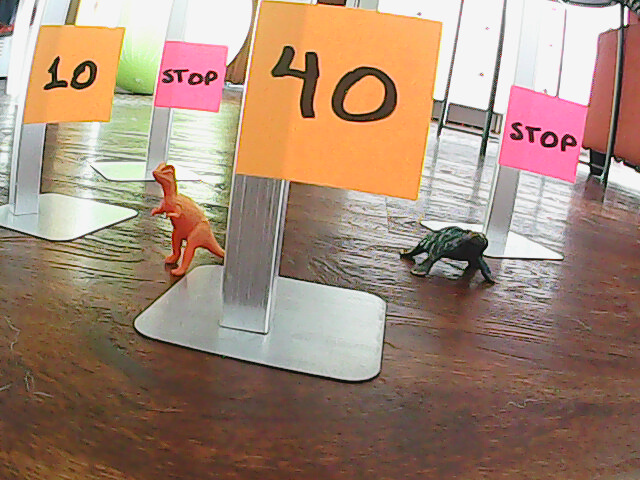10: (26, 35, 115, 125)
40: (246, 26, 427, 173)
dinosaur: (147, 158, 224, 284)
stop: (506, 107, 578, 167), (157, 50, 220, 106)
turtle: (397, 225, 501, 288)
